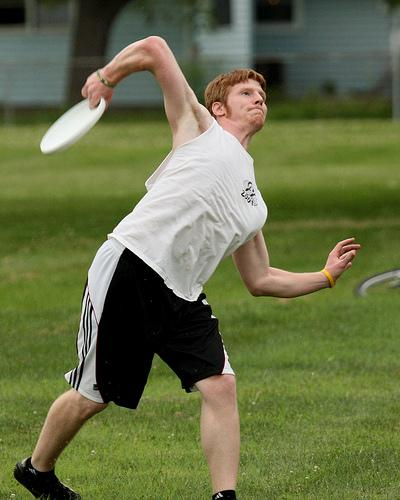person: (14, 36, 361, 500)
